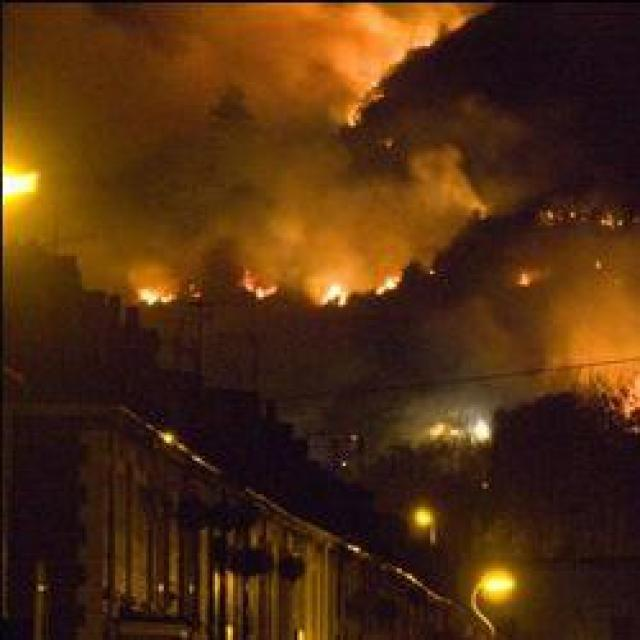Fire: (482, 572, 515, 598), (7, 168, 38, 192), (140, 286, 164, 306), (316, 286, 346, 302), (414, 501, 430, 528)
